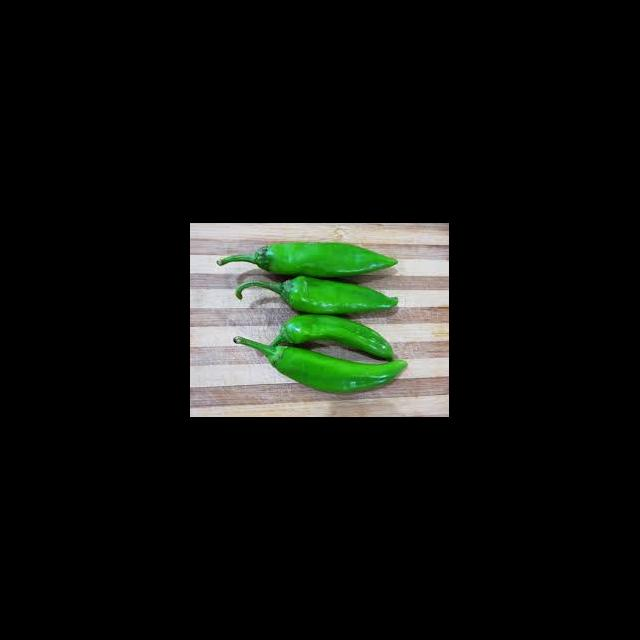chili_pepper: (282, 313, 408, 362), (272, 346, 406, 392), (254, 242, 402, 279), (280, 274, 400, 314)
